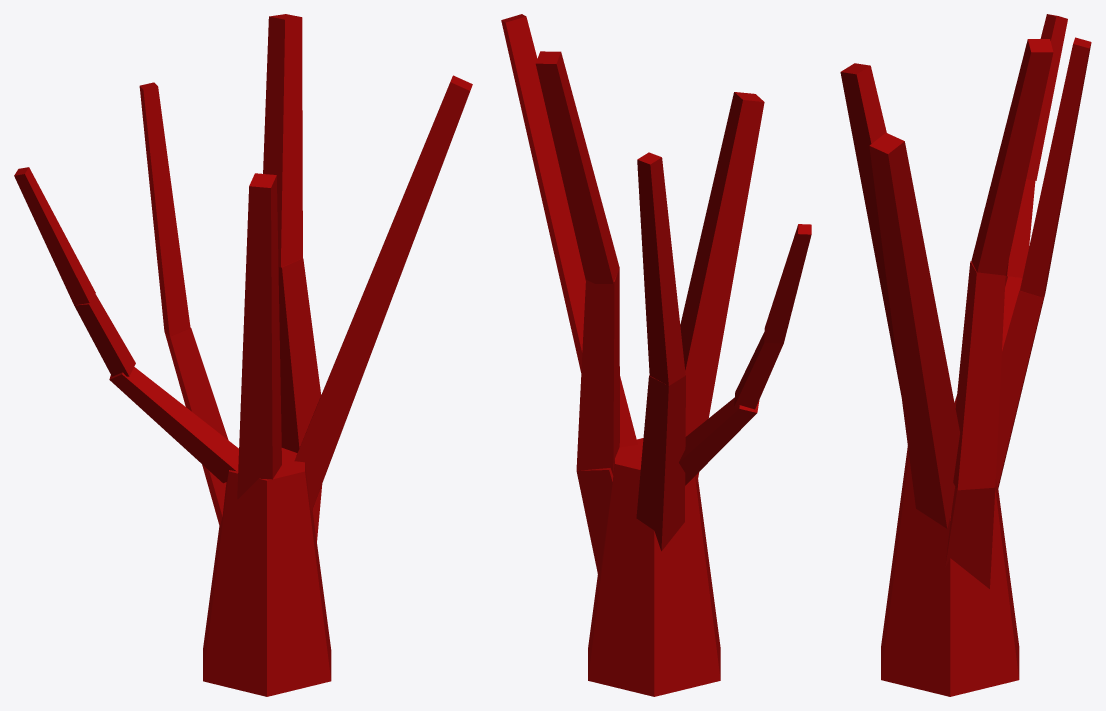
The model's file is SM_Env_Tree_Pohutukawa_03_Collision.glb.
3 renders of one model, left to right at view 1: azimuth 30°, elevation 25°; view 2: azimuth 150°, elevation 25°; view 3: azimuth 270°, elevation 25°, orthographic. The views are drawn at different scales.
Visible parts, largest first — view 1: SM_Env_Tree_Pohutukawa_03_Collision; view 2: SM_Env_Tree_Pohutukawa_03_Collision; view 3: SM_Env_Tree_Pohutukawa_03_Collision.
Part boxes in pixels (x1,y1,x2,y2): SM_Env_Tree_Pohutukawa_03_Collision: (14,14,472,696); SM_Env_Tree_Pohutukawa_03_Collision: (501,14,811,696); SM_Env_Tree_Pohutukawa_03_Collision: (840,14,1091,696).
Bounding box in the file's own units: 1.88 × 2.86 × 0.9988.
